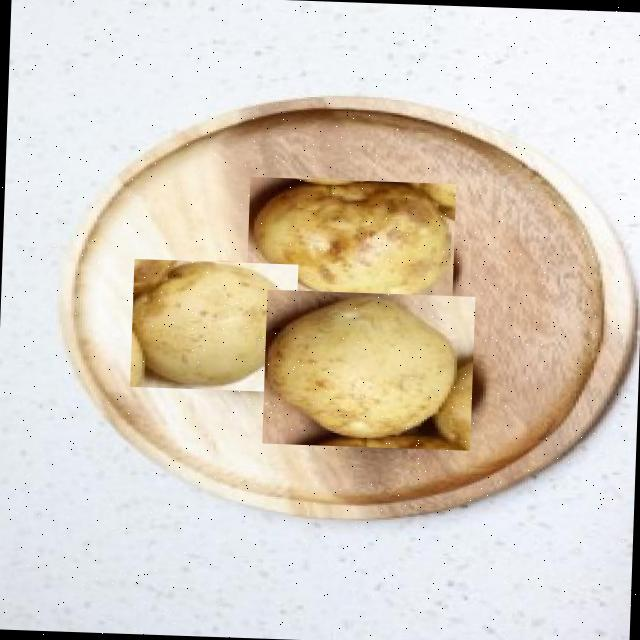Potato: (262, 288, 475, 449), (245, 175, 456, 308), (130, 258, 298, 392)
